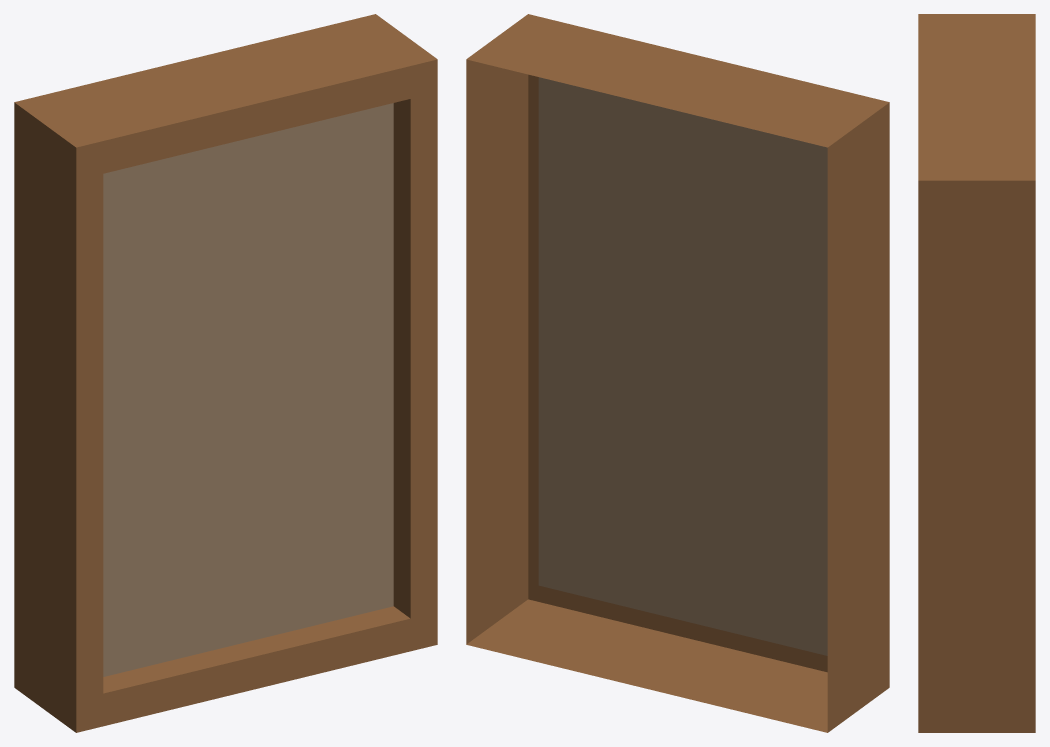
File: Wall_supp_Lever.fbx
The picture shows the model from 3 angles, left to right: view 1: azimuth 30°, elevation 25°; view 2: azimuth 150°, elevation 25°; view 3: azimuth 270°, elevation 25°; orthographic projection. The views are drawn at different scales.
Visible parts, largest first — view 1: Wall_supp_Lever; view 2: Wall_supp_Lever; view 3: Wall_supp_Lever.
Part boxes in pixels (left/top/right/bottom): Wall_supp_Lever: left=14, top=14, right=437, bottom=732; Wall_supp_Lever: left=466, top=14, right=889, bottom=732; Wall_supp_Lever: left=918, top=14, right=1035, bottom=732.
Size of the model in its own units: 194 by 299 by 57.51.
